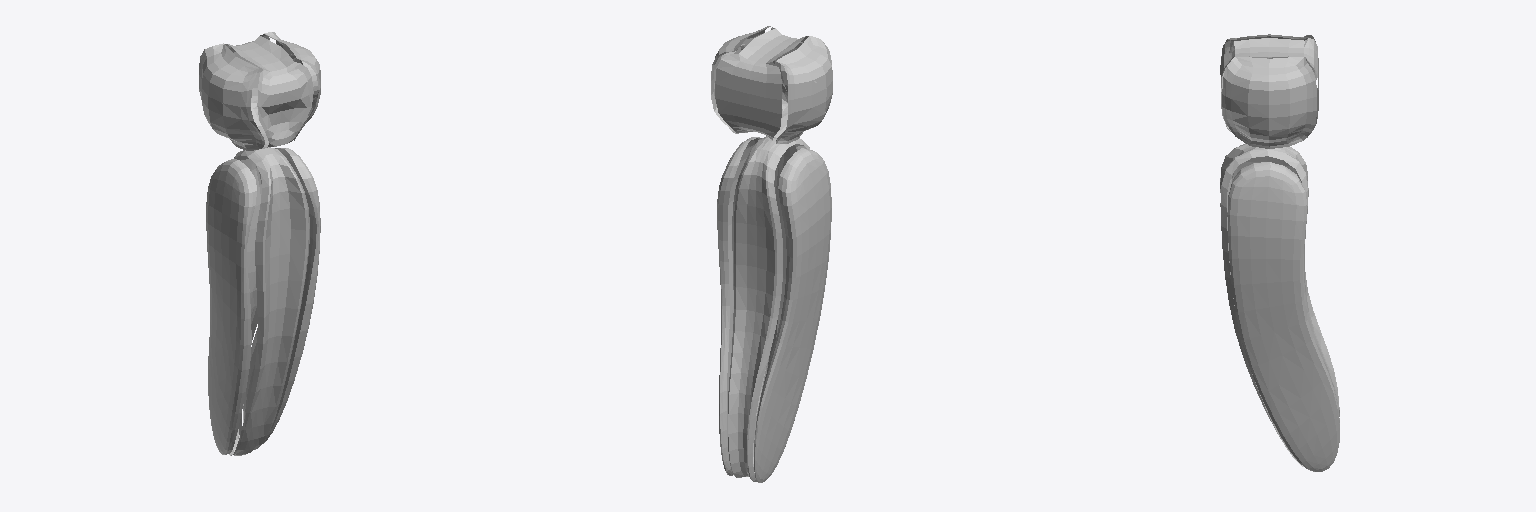
File: body.obj
3 views of the same model, side by side, from view 1: azimuth 30°, elevation 25°; view 2: azimuth 150°, elevation 25°; view 3: azimuth 270°, elevation 25° (orthographic).
Parts seen in each view (by area): view 1: Body.006; view 2: Body.006; view 3: Body.006.
Part boxes in pixels (bbox=[...]): Body.006: bbox=[199, 32, 320, 455]; Body.006: bbox=[711, 26, 832, 482]; Body.006: bbox=[1220, 34, 1339, 471].
Size of the model in its own units: 0.3283 by 1.24 by 0.3209.